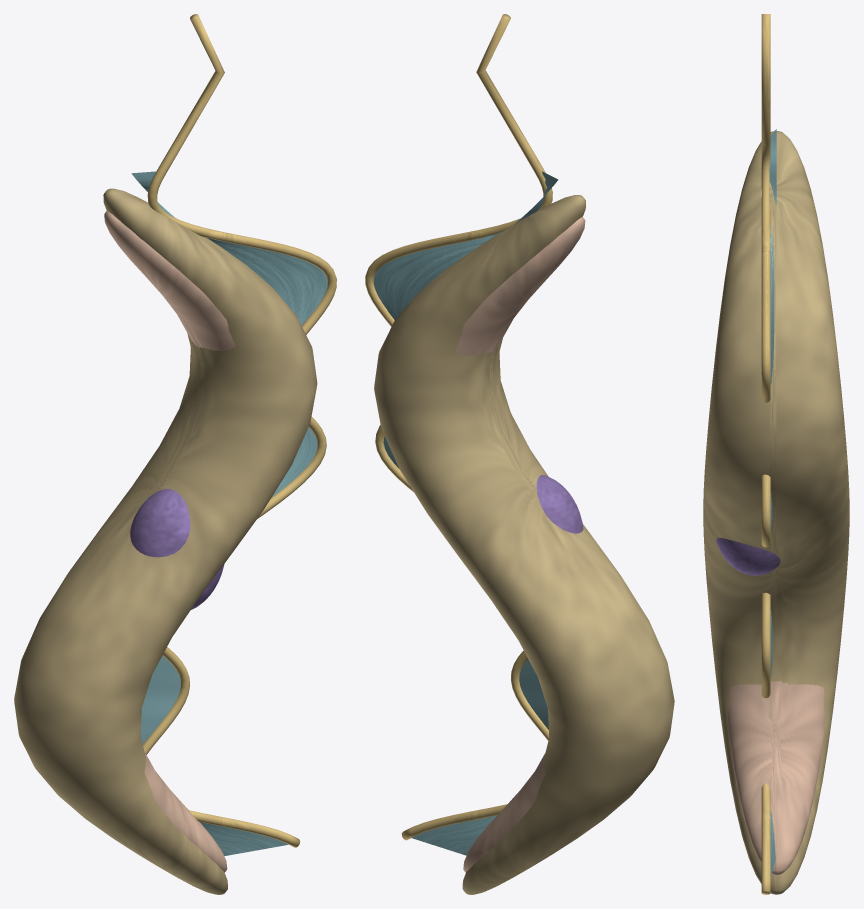
Rendered from complete.glb.
The picture shows the model from 3 angles, left to right: view 1: azimuth 30°, elevation 25°; view 2: azimuth 150°, elevation 25°; view 3: azimuth 270°, elevation 25°; orthographic projection. The views are drawn at different scales.
Parts seen in each view (by area): view 1: membrana_mesh, ondulante_mesh, flagelo_mesh, citoplasma_mesh, nucleo_mesh; view 2: membrana_mesh, citoplasma_mesh, ondulante_mesh, flagelo_mesh, nucleo_mesh; view 3: membrana_mesh, citoplasma_mesh, flagelo_mesh, ondulante_mesh, nucleo_mesh.
Boxes of the visible parts, bbox=[...] form: membrana_mesh: bbox=[14, 188, 317, 894]; ondulante_mesh: bbox=[131, 171, 327, 855]; flagelo_mesh: bbox=[143, 14, 336, 847]; citoplasma_mesh: bbox=[104, 210, 235, 872]; nucleo_mesh: bbox=[130, 489, 224, 609]; membrana_mesh: bbox=[374, 195, 674, 894]; citoplasma_mesh: bbox=[455, 216, 585, 872]; ondulante_mesh: bbox=[373, 171, 558, 855]; flagelo_mesh: bbox=[365, 14, 552, 840]; nucleo_mesh: bbox=[536, 475, 583, 533]; membrana_mesh: bbox=[703, 131, 849, 894]; citoplasma_mesh: bbox=[728, 681, 824, 874]; flagelo_mesh: bbox=[761, 14, 770, 894]; ondulante_mesh: bbox=[769, 129, 776, 876]; nucleo_mesh: bbox=[716, 537, 780, 575].
Size of the model in its own units: 1.32 by 3.66 by 0.56.
Materials: 6 (6 with a texture image).
